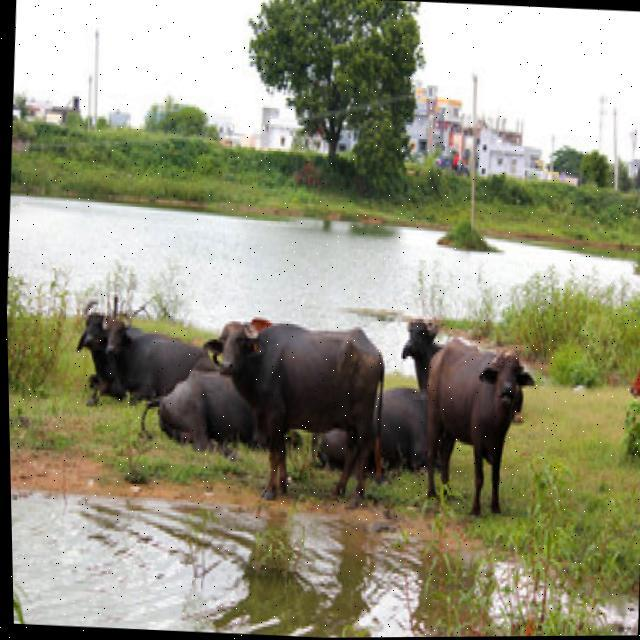Buffalo: (198, 316, 400, 519), (416, 323, 538, 522)
